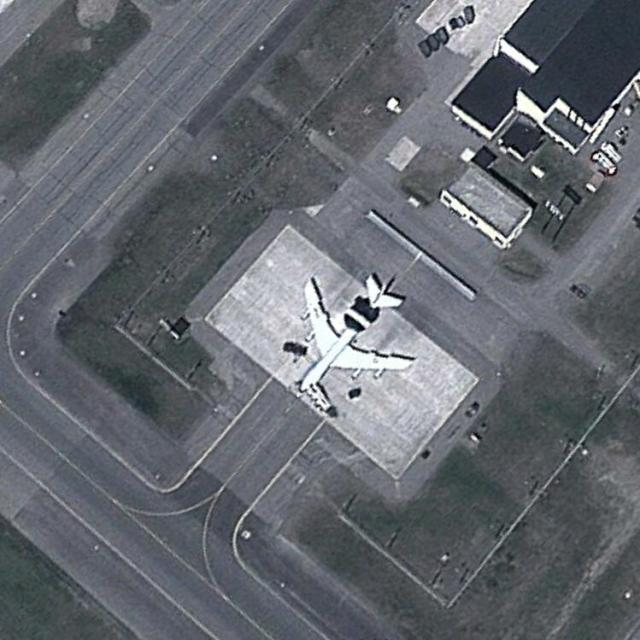fighter jet: (281, 257, 424, 403)
